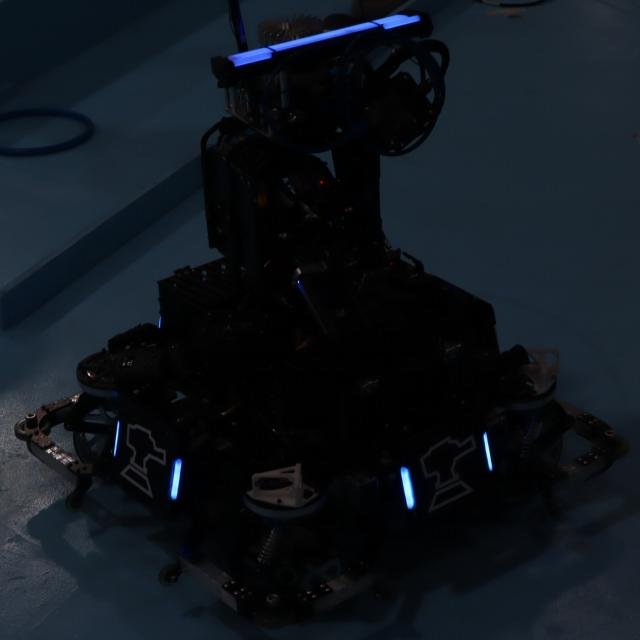Bs: (394, 428, 499, 519), (111, 406, 185, 508)
